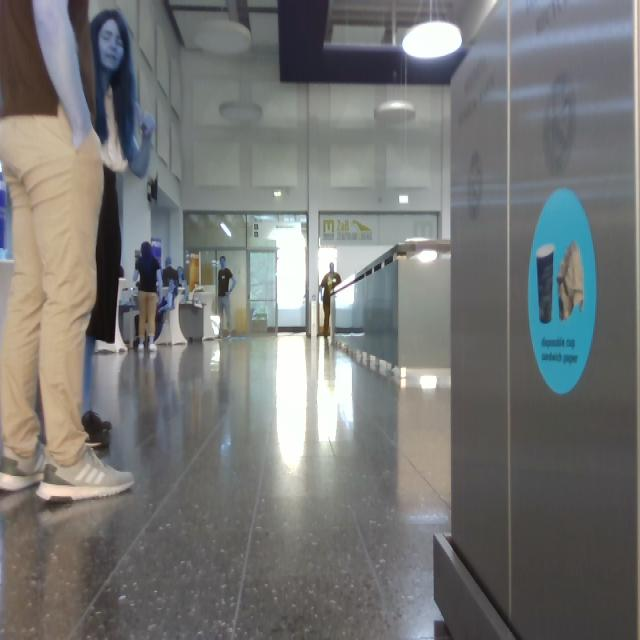door: (185, 213, 307, 334)
light bulb: (403, 21, 460, 60), (194, 17, 250, 56), (220, 100, 262, 122), (375, 101, 414, 124)
person: (1, 1, 134, 500), (82, 10, 155, 445), (134, 242, 160, 349), (321, 264, 341, 338), (218, 257, 236, 337)
trash bin: (434, 1, 640, 640), (451, 1, 640, 640)
